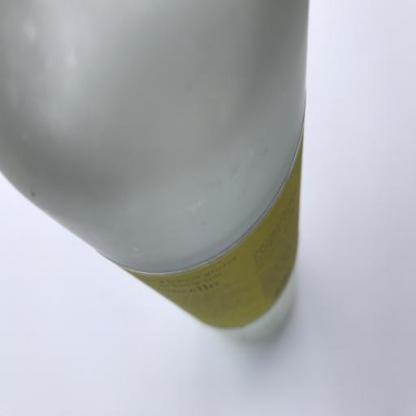trash: (2, 0, 310, 340)
